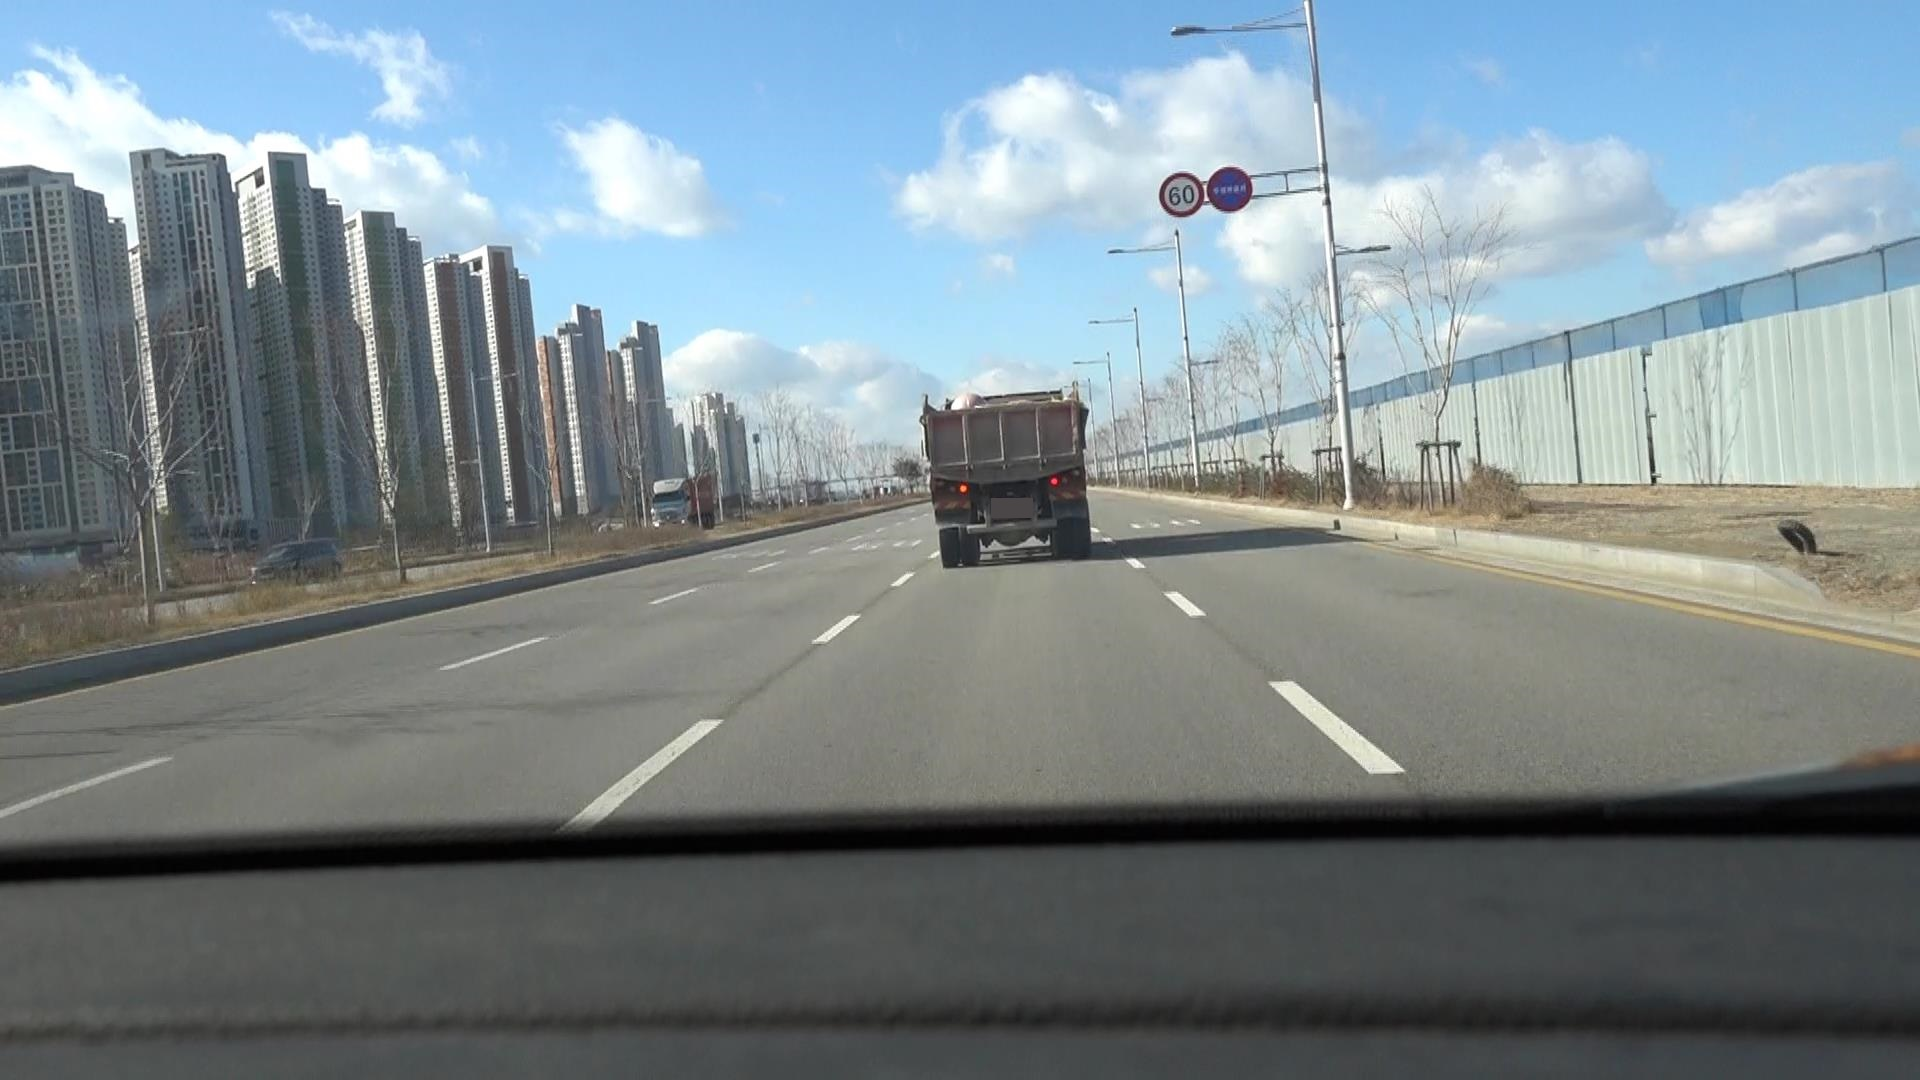불법차량: (920, 381, 1092, 570)
